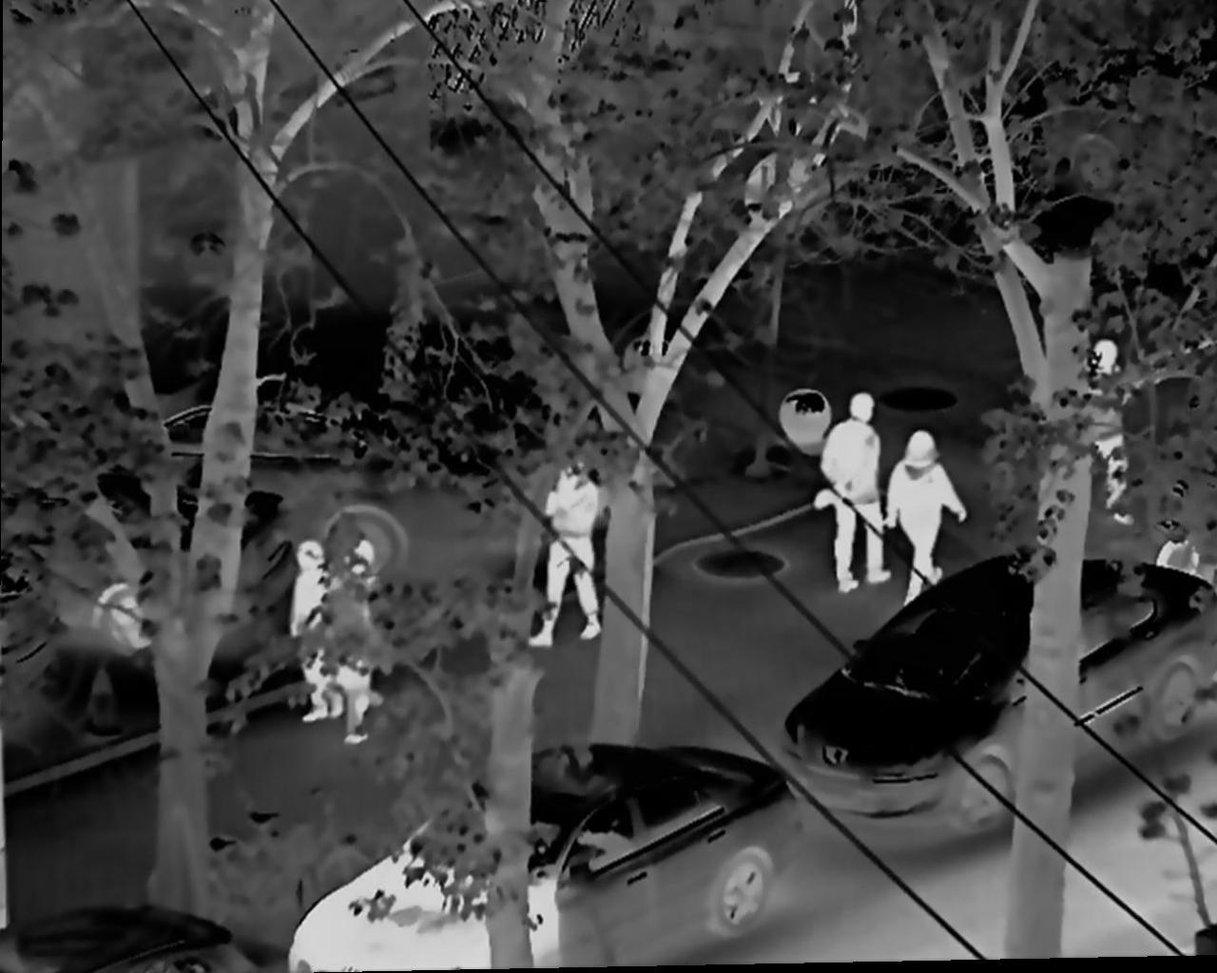person: (806, 391, 894, 598), (882, 418, 972, 615), (529, 461, 608, 660), (327, 533, 385, 748), (281, 542, 345, 730), (1081, 331, 1138, 523)
